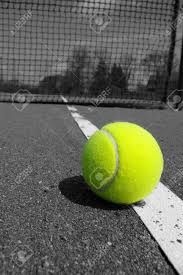tennis_ball: (79, 121, 164, 205)
